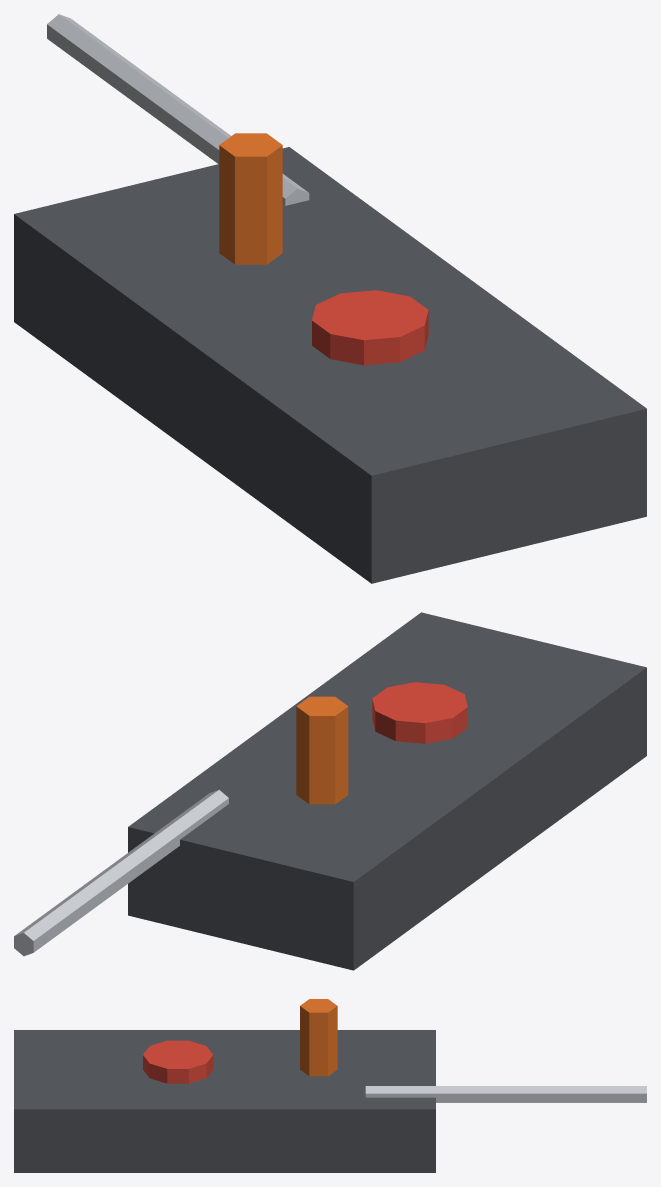
File: remote_control.glb
3 views of the same model, one above another, from view 1: azimuth 30°, elevation 25°; view 2: azimuth 150°, elevation 25°; view 3: azimuth 270°, elevation 25° (orthographic). The views are drawn at different scales.
Visible parts, largest first — view 1: body_robot_grey, stick_robot_orange, button_logo_red, antenna_steel_spoon; view 2: body_robot_grey, antenna_steel_spoon, stick_robot_orange, button_logo_red; view 3: body_robot_grey, antenna_steel_spoon, stick_robot_orange, button_logo_red.
Boxes of the visible parts, x1,y1,x2,y2 form: body_robot_grey: (14, 147, 646, 583); stick_robot_orange: (219, 133, 282, 264); button_logo_red: (312, 290, 428, 365); antenna_steel_spoon: (47, 14, 309, 205); body_robot_grey: (128, 612, 646, 970); antenna_steel_spoon: (14, 790, 228, 956); stick_robot_orange: (296, 696, 348, 804); button_logo_red: (372, 682, 467, 743); body_robot_grey: (14, 1030, 435, 1172); antenna_steel_spoon: (365, 1086, 646, 1102); stick_robot_orange: (300, 999, 337, 1076); button_logo_red: (143, 1040, 213, 1083).
Size of the model in its own units: 0.08 by 0.06 by 0.27.
